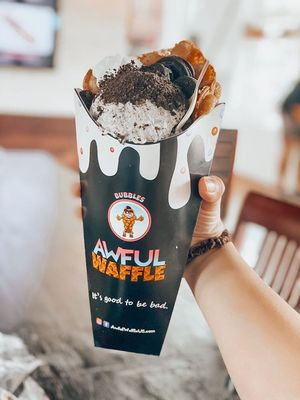pizza: (1, 175, 300, 400)
